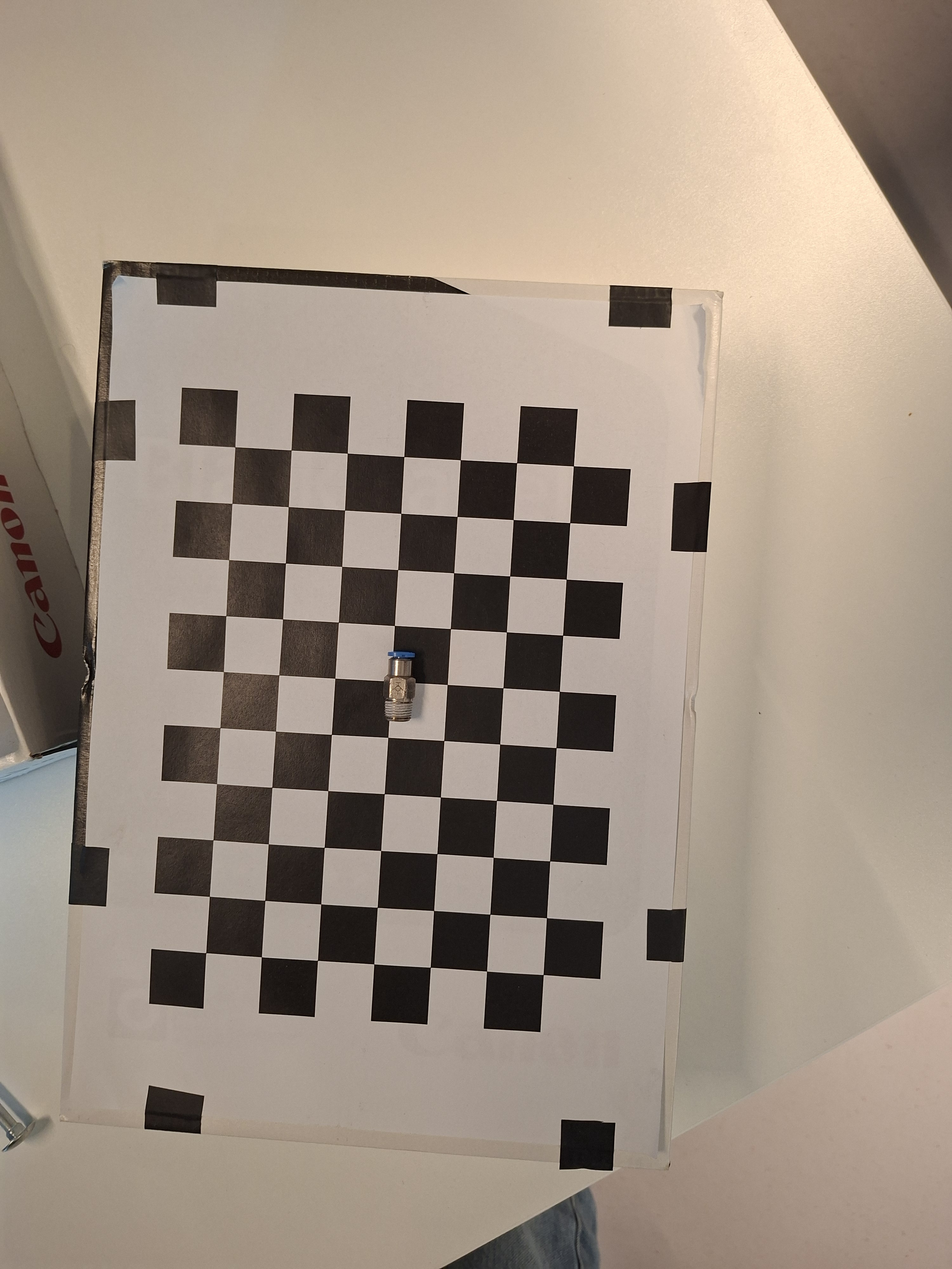pneumatic_fitting: (377, 652, 422, 726)
